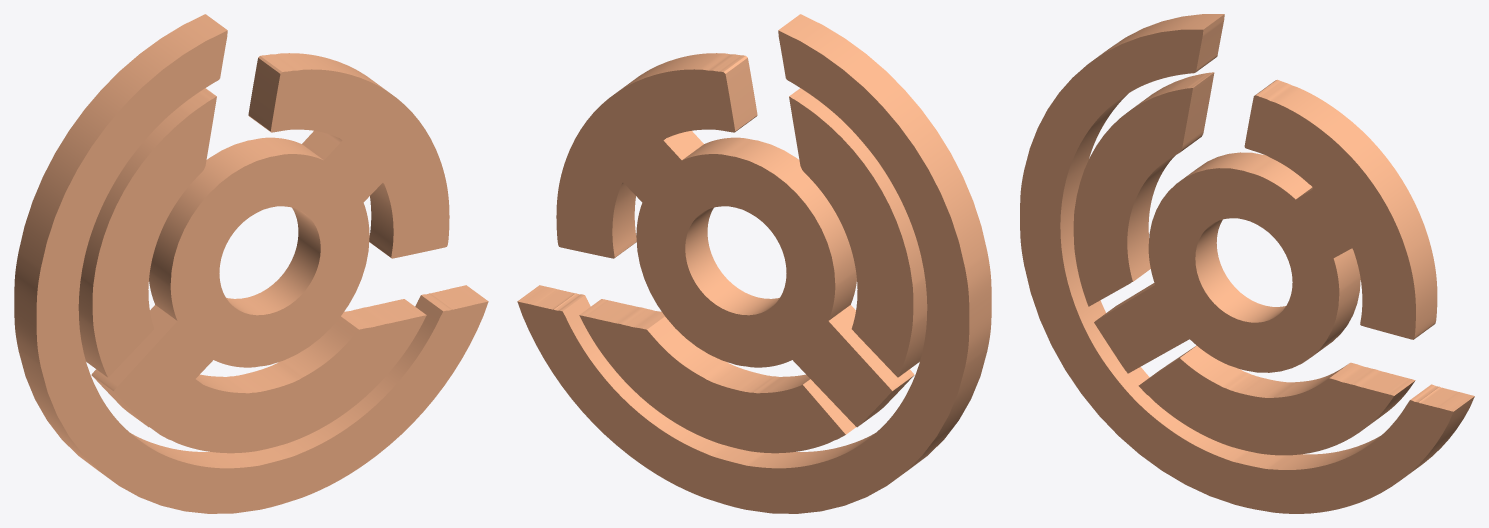
The model's file is core.dae.
3 renders of one model, left to right at view 1: azimuth 30°, elevation 25°; view 2: azimuth 150°, elevation 25°; view 3: azimuth 330°, elevation 25°, orthographic. The views are drawn at different scales.
Visible parts, largest first — view 1: cict-1, cict-3, cict-2; view 2: cict-1, cict-3, cict-2; view 3: cict-1, cict-3, cict-2.
Part boxes in pixels (x1,y1,x2,y2): cict-1: (91,53,449,427); cict-3: (14,14,488,513); cict-2: (78,88,426,453); cict-1: (556,53,914,427); cict-3: (517,14,991,513); cict-2: (579,88,927,453); cict-1: (1094,79,1437,373); cict-3: (1020,14,1474,513); cict-2: (1073,72,1415,455).
Bounding box in the file's own units: 0.0658 × 0.00563 × 0.0678.
